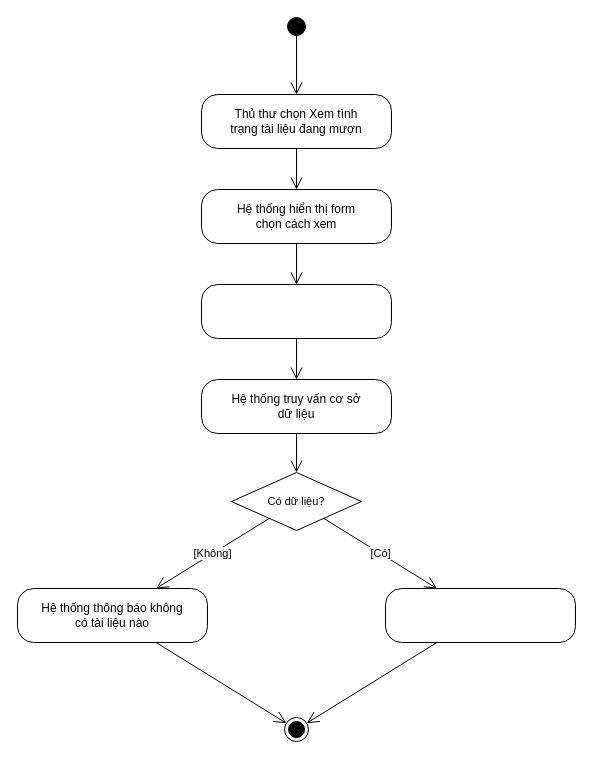
Some shapes in this 593 by 759 pixel diagram are drawn without their labels. Each missing label, with the centre of its shape:
Hệ thống hiển thị danh sách tình trạng mượn: [480,615]
Thủ thư chọn cách xem và nhấn Xem: [296,311]
